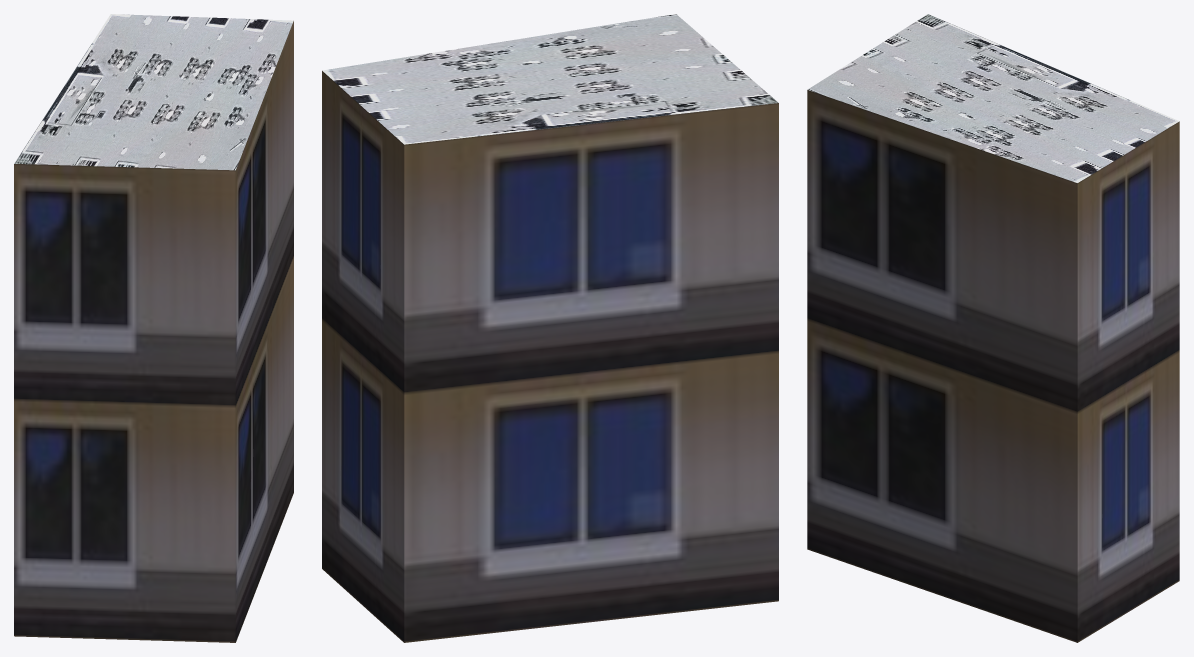
The model's file is ResTex__4466.fbx.
The picture shows the model from 3 angles, left to right: view 1: azimuth 30°, elevation 25°; view 2: azimuth 150°, elevation 25°; view 3: azimuth 270°, elevation 25°; orthographic projection. The views are drawn at different scales.
Parts seen in each view (by area): view 1: CityEngineMaterial_5_m, CityEngineMaterial_8_m; view 2: CityEngineMaterial_5_m, CityEngineMaterial_8_m; view 3: CityEngineMaterial_5_m, CityEngineMaterial_8_m.
Part boxes in pixels (x1,y1,x2,y2): CityEngineMaterial_5_m: (14, 21, 293, 642); CityEngineMaterial_8_m: (14, 14, 293, 170); CityEngineMaterial_5_m: (322, 71, 778, 642); CityEngineMaterial_8_m: (322, 14, 778, 144); CityEngineMaterial_5_m: (807, 90, 1179, 642); CityEngineMaterial_8_m: (807, 14, 1179, 182).
Size of the model in its own units: 4.74 by 6 by 4.41.
Materials: 2 (2 with a texture image).
